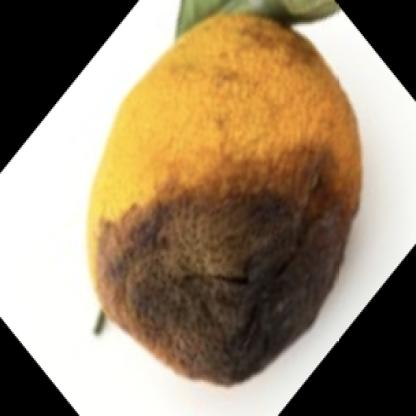rotten: (86, 16, 362, 387)
